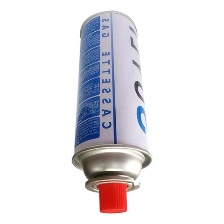aerosol_cans: (67, 8, 153, 218)
